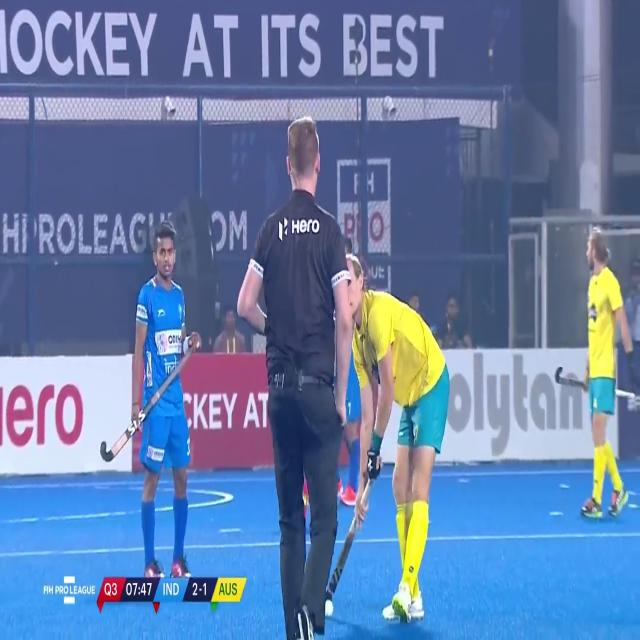ball: (321, 592, 336, 620)
